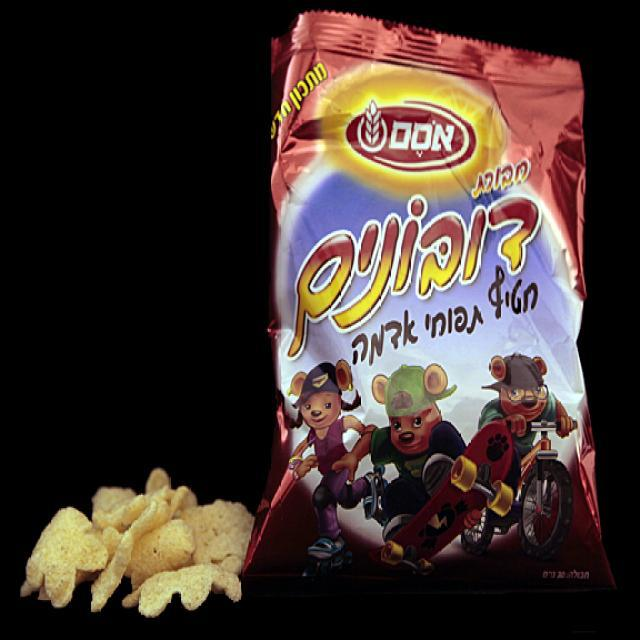Chips: (254, 15, 614, 597)
Chips packaged: (12, 460, 301, 640)
